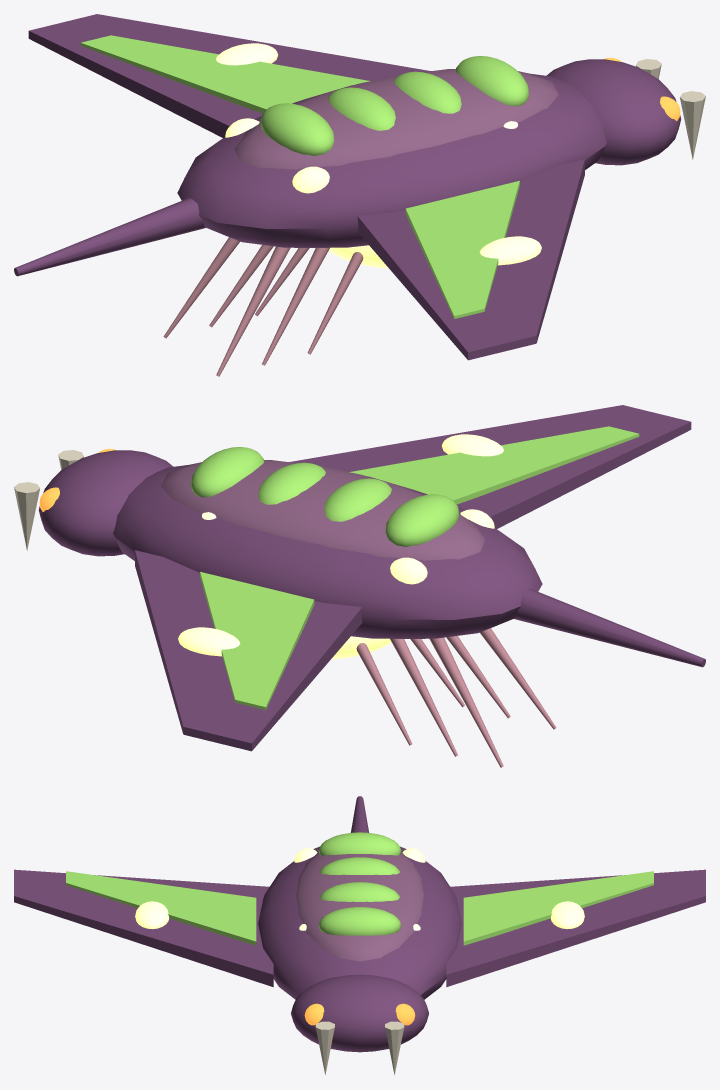
The model's file is ins_gunship.glb.
3 views of the same model, one above another, from view 1: azimuth 30°, elevation 25°; view 2: azimuth 150°, elevation 25°; view 3: azimuth 270°, elevation 25° (orthographic). The views are drawn at different scales.
Visible parts, largest first — view 1: ins_gunship, wing_r_m, wing_l_m; view 2: ins_gunship, wing_l_m, wing_r_m; view 3: ins_gunship, wing_l_m, wing_r_m.
Boxes of the visible parts, <box> form: ins_gunship: <box>14,56,705,376</box>; wing_r_m: <box>357,159,584,360</box>; wing_l_m: <box>28,14,430,137</box>; ins_gunship: <box>14,447,705,767</box>; wing_l_m: <box>135,550,362,751</box>; wing_r_m: <box>289,405,691,528</box>; ins_gunship: <box>258,796,461,1074</box>; wing_l_m: <box>446,869,705,987</box>; wing_r_m: <box>14,869,273,987</box>.
Bounding box in the file's own units: 1.75 × 0.5524 × 2.
